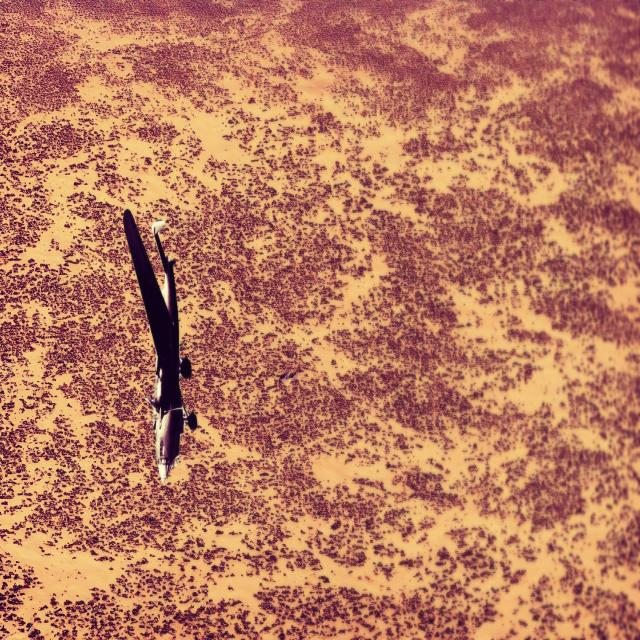airplane: (122, 207, 197, 485)
